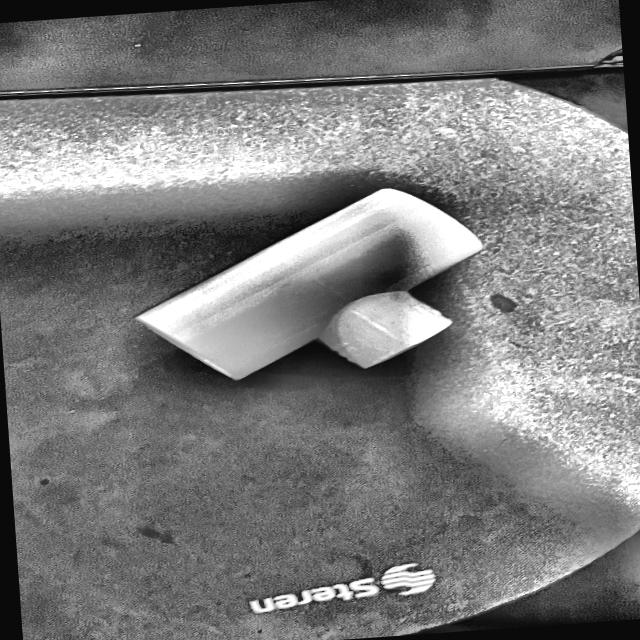EQUALTEE: (135, 187, 482, 382)
